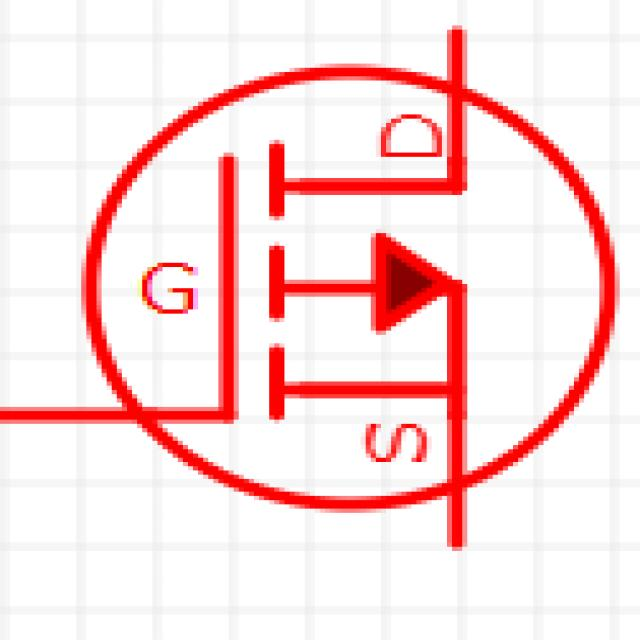pmos: (15, 38, 640, 602)
